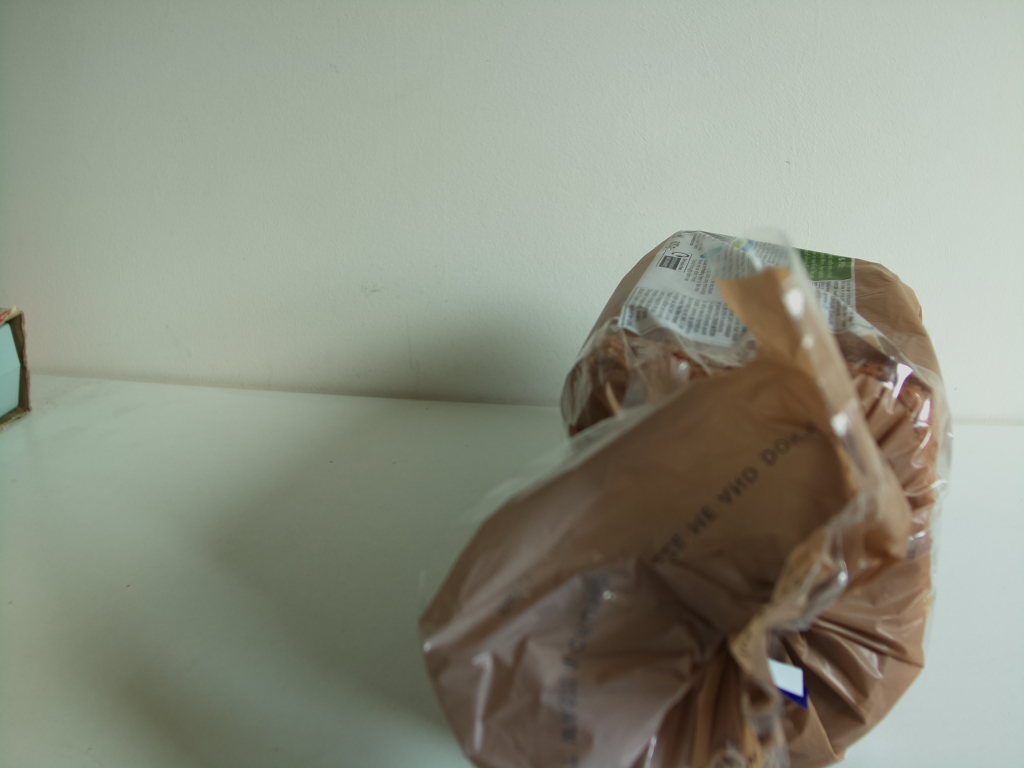bread: (422, 226, 952, 766)
